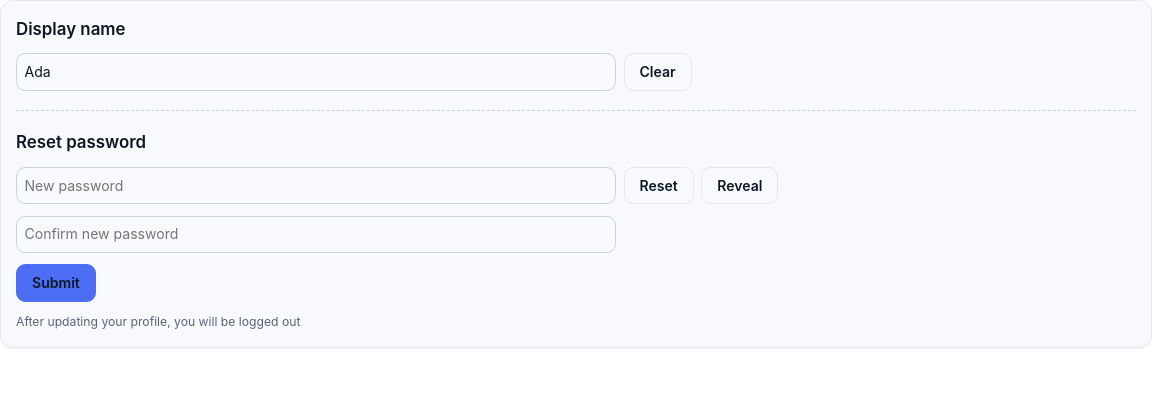
Test case: EditProfileSettings validation › rejects an empty display name
Clear the field named "Display name" at (316, 72), box 16,53 -> 616,91
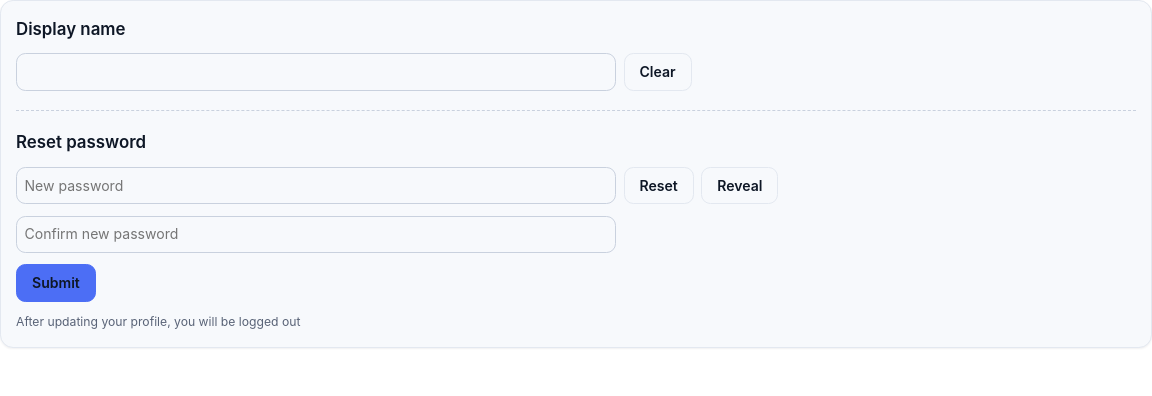
Click the button "Submit" at (56, 283), box 16,264 -> 96,302
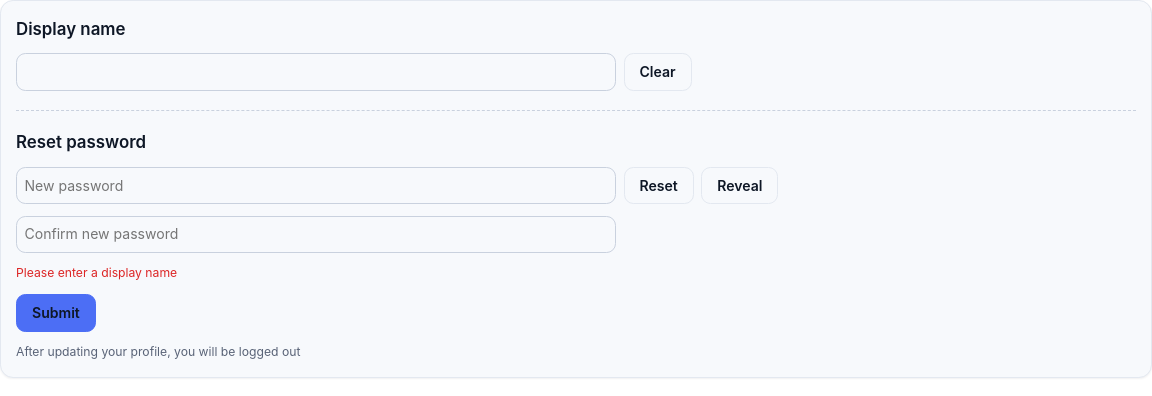
Now the text "Please enter a display name" is shown, box 16,265 -> 177,280
